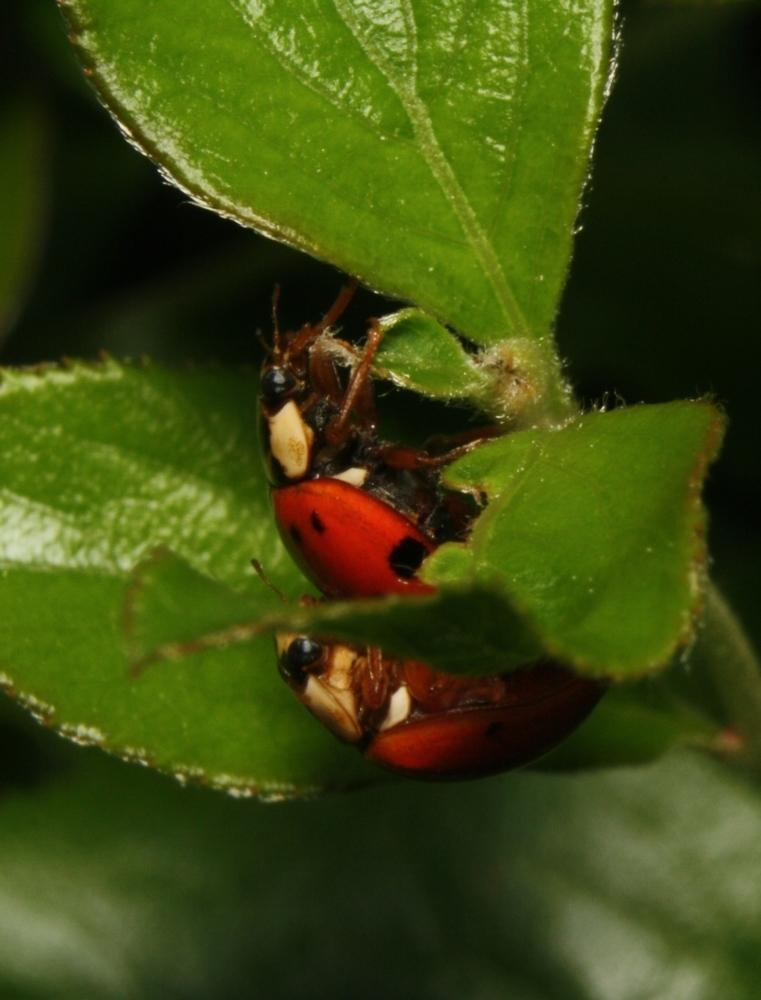ladybug: (249, 551, 621, 789), (251, 274, 506, 606)
